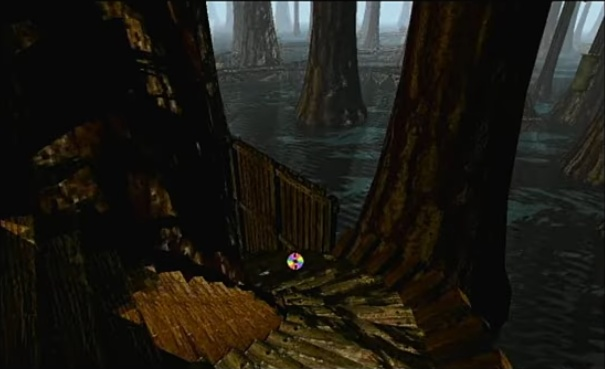Waiting: (284, 249, 307, 271)
